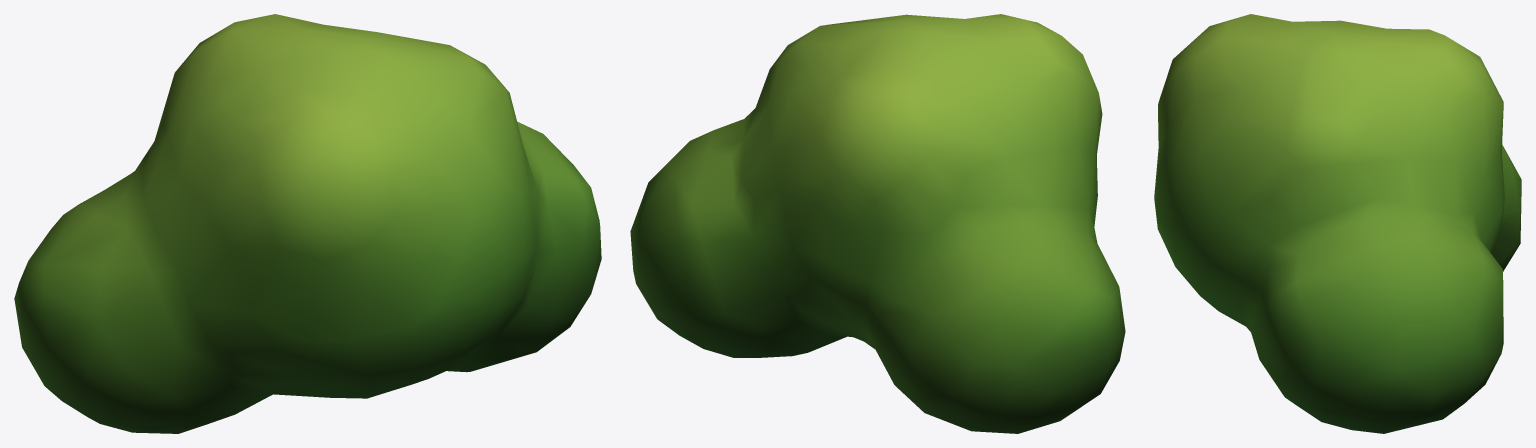
File: Bush_A.fbx
The picture shows the model from 3 angles, left to right: view 1: azimuth 30°, elevation 25°; view 2: azimuth 150°, elevation 25°; view 3: azimuth 270°, elevation 25°; orthographic projection. The views are drawn at different scales.
Visible parts, largest first — view 1: Bush_A; view 2: Bush_A; view 3: Bush_A.
Part boxes in pixels (x1,y1,x2,y2): Bush_A: (14, 14, 601, 433); Bush_A: (630, 14, 1125, 433); Bush_A: (1154, 14, 1521, 433).
Bounding box in the file's own units: 2.18 × 1.44 × 1.49.
